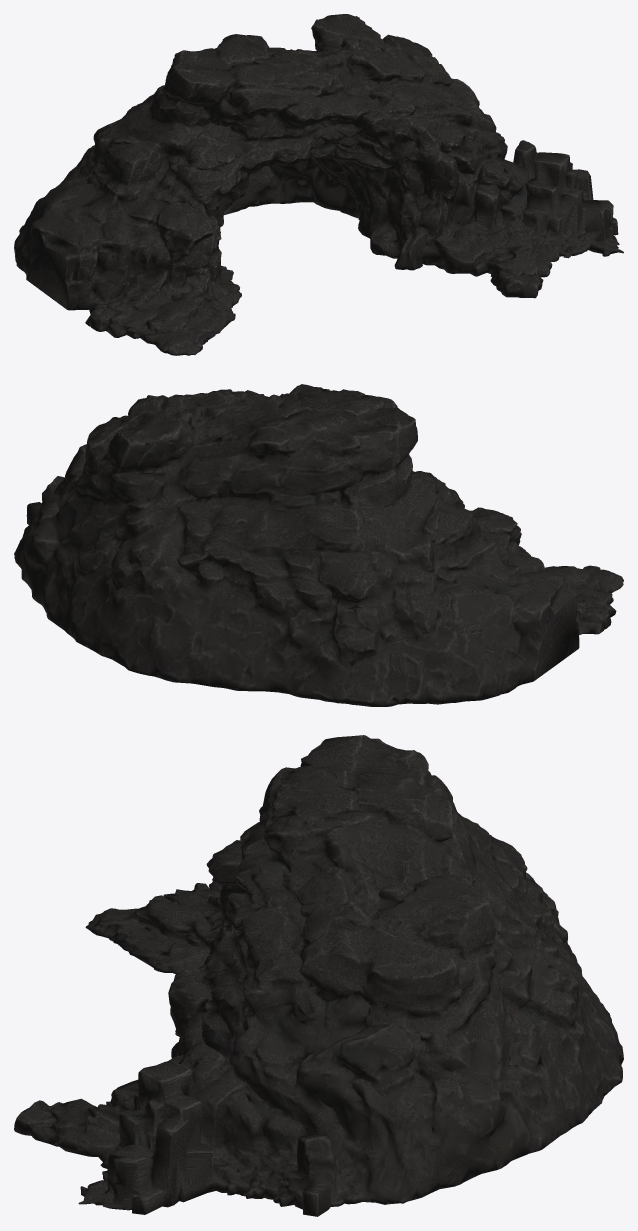
The model's file is Basalt_Arch.glb.
3 views of the same model, one above another, from view 1: azimuth 30°, elevation 25°; view 2: azimuth 150°, elevation 25°; view 3: azimuth 270°, elevation 25° (orthographic). The views are drawn at different scales.
Visible parts, largest first — view 1: Basalt_Arch; view 2: Basalt_Arch; view 3: Basalt_Arch.
Boxes of the visible parts, bbox=[...] form: Basalt_Arch: bbox=[14, 14, 623, 355]; Basalt_Arch: bbox=[14, 384, 623, 706]; Basalt_Arch: bbox=[14, 735, 623, 1216].
Bounding box in the file's own units: 1.89 × 0.6881 × 1.51.
Materials: 1 (1 with a texture image).
